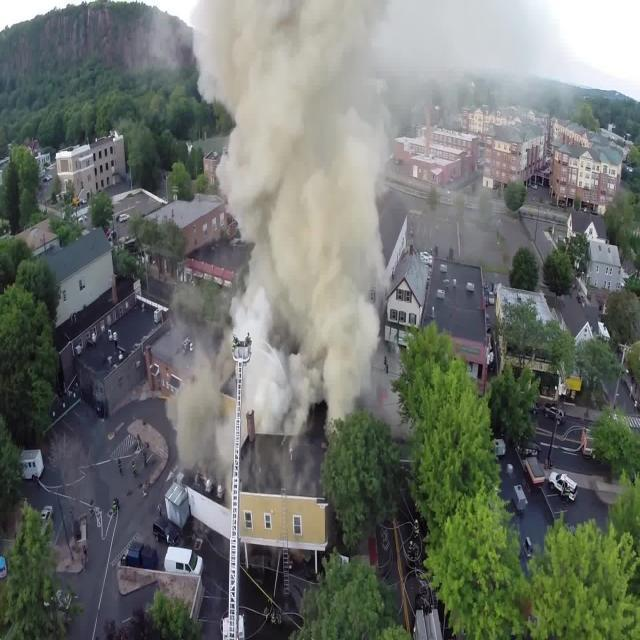Smoke: (202, 0, 389, 405), (174, 344, 242, 468)
